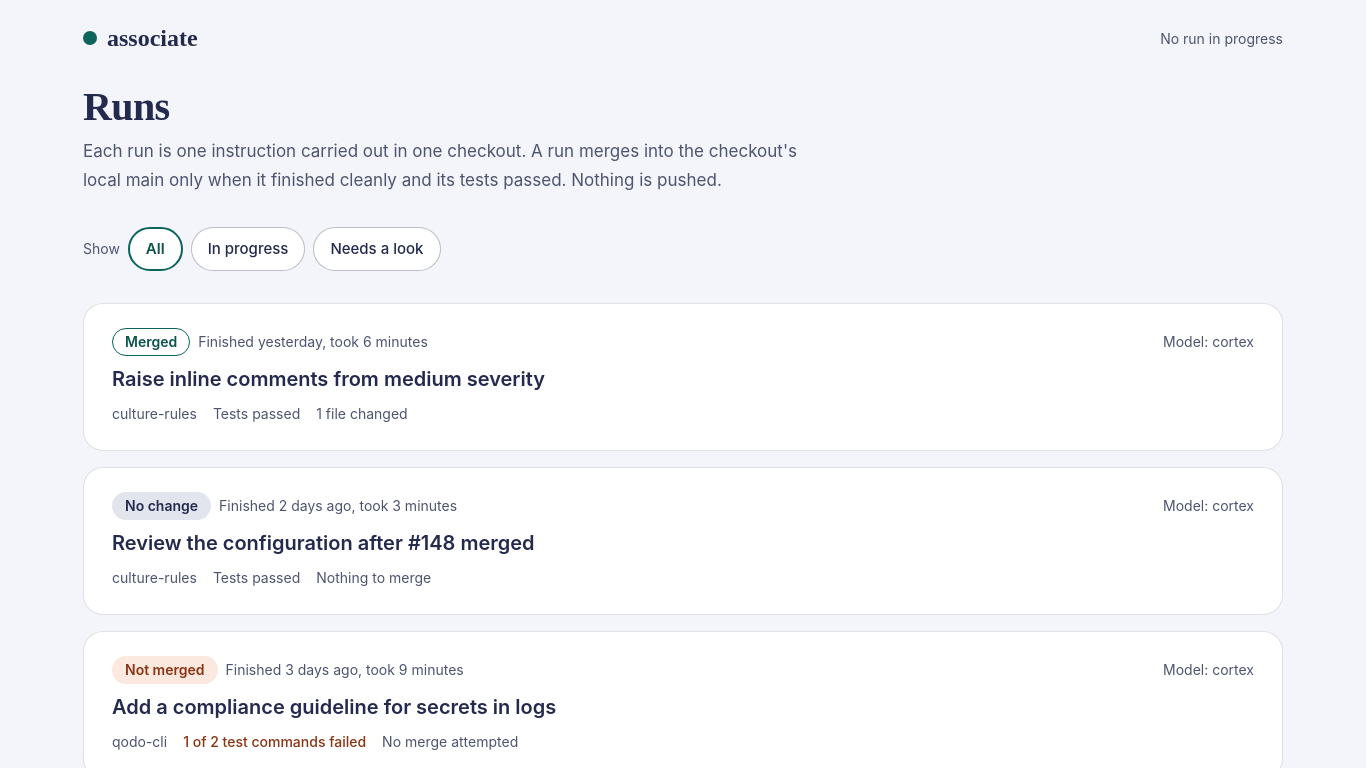
Test: the runs list › says so when a filter matches nothing
Click the button "In progress" at (248, 249), box left=191, top=227, right=305, bottom=271
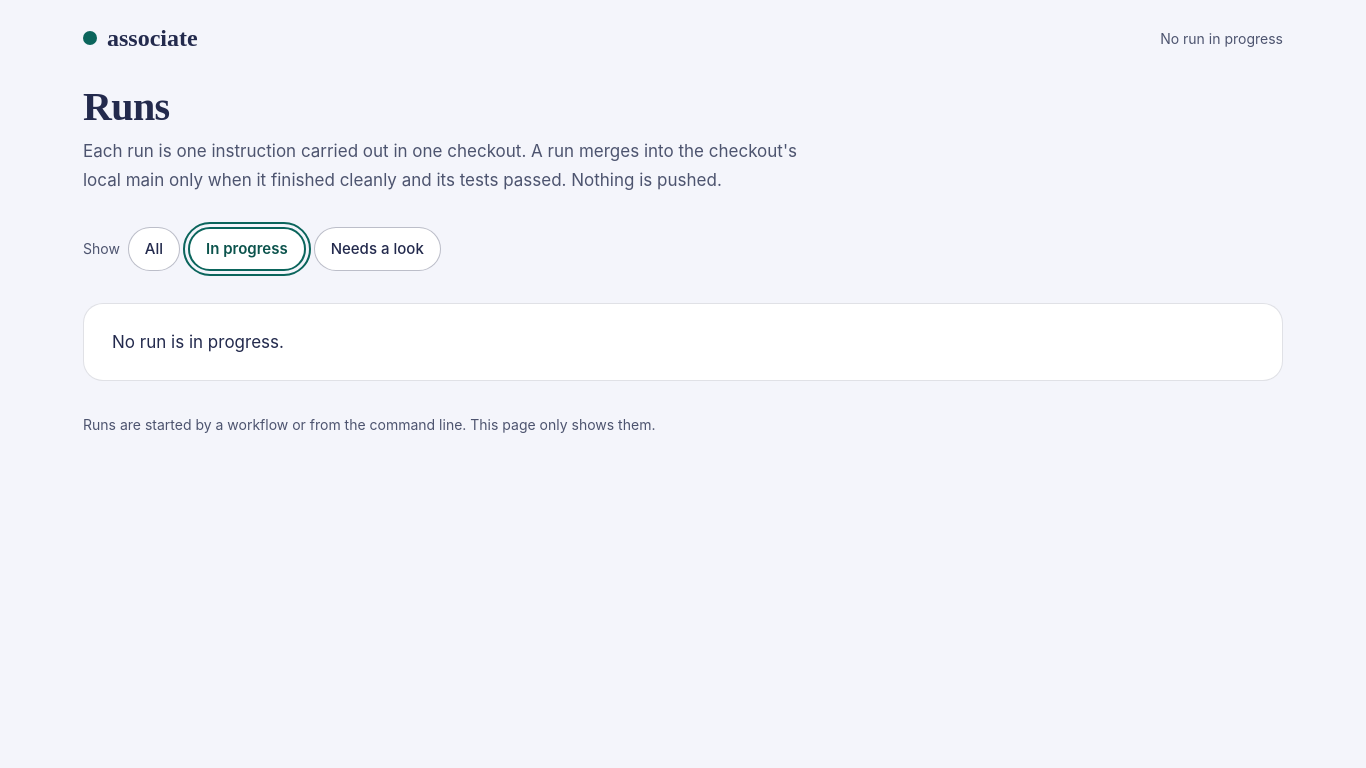
Expected: the text "No run is in progress." is shown, left=83, top=303, right=1283, bottom=382
